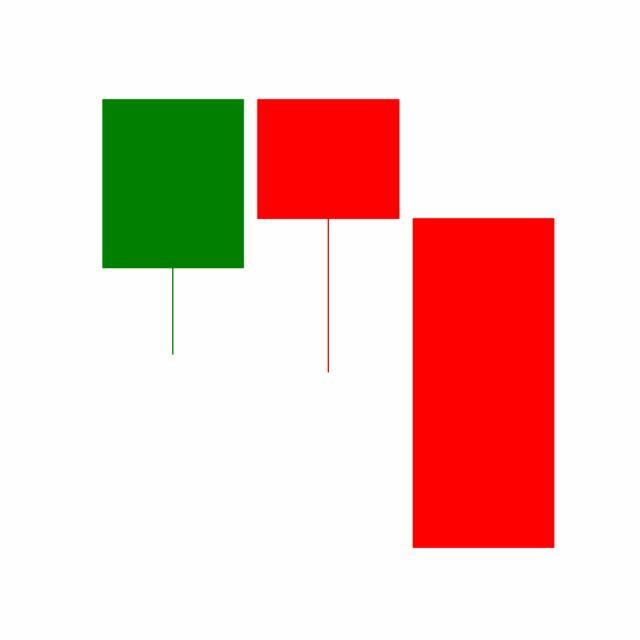Marubozu: (406, 215, 562, 552)
